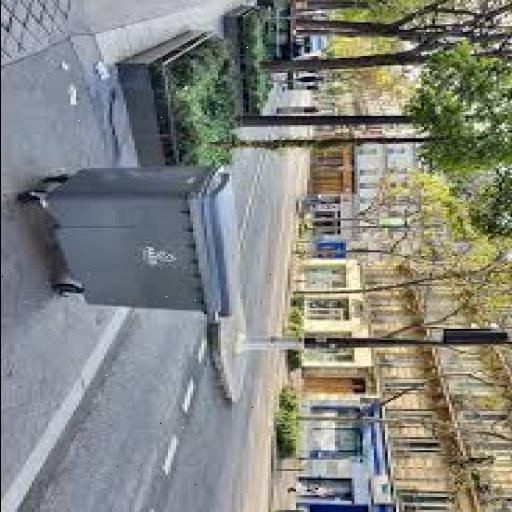poubelle_vide: (12, 152, 246, 358)
